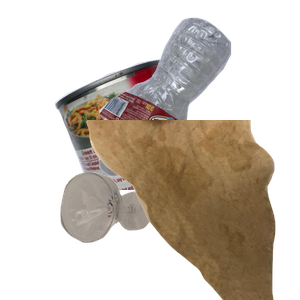glass: (58, 170, 202, 300)
metal: (52, 57, 260, 237)
plastic: (96, 15, 300, 184)
trash: (84, 120, 300, 300)
